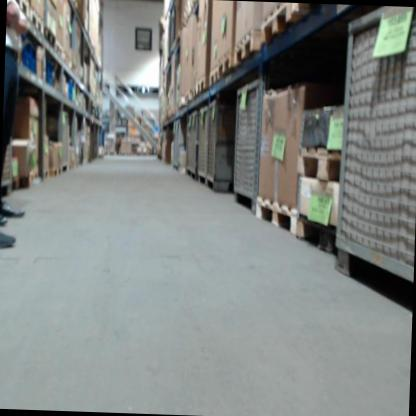pallet: (254, 197, 300, 238), (296, 147, 344, 184), (261, 2, 293, 46), (235, 29, 260, 65), (218, 51, 235, 80), (29, 8, 45, 36), (13, 0, 30, 20), (196, 76, 208, 95), (209, 68, 218, 86), (135, 151, 149, 157), (104, 150, 117, 156)
stillage: (327, 6, 416, 318), (229, 72, 288, 214), (206, 97, 232, 192), (196, 102, 210, 190), (175, 117, 188, 172), (190, 110, 198, 180), (185, 113, 193, 178), (169, 118, 177, 169)
